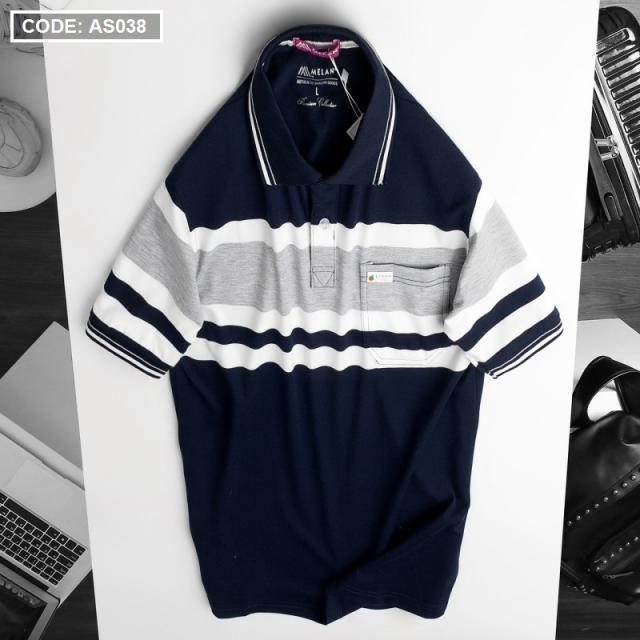Shirt: (86, 21, 560, 628)
